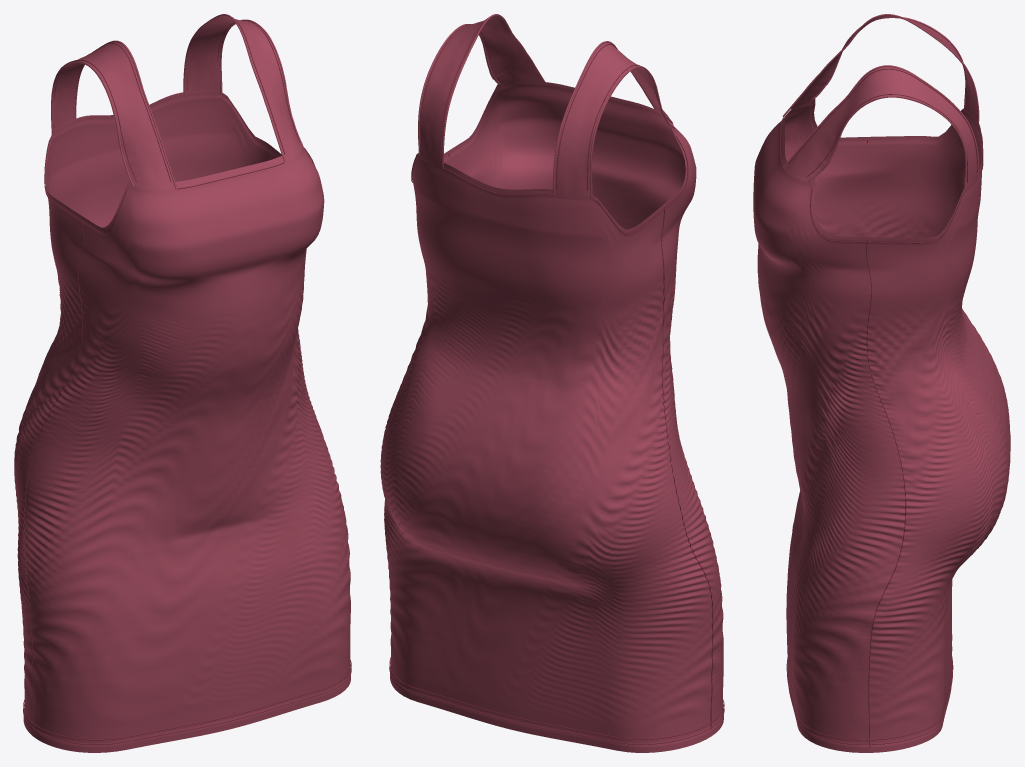
The model's file is vestido-mini-plisado_XL.glb.
The picture shows the model from 3 angles, left to right: view 1: azimuth 30°, elevation 25°; view 2: azimuth 150°, elevation 25°; view 3: azimuth 270°, elevation 25°; orthographic projection. The views are drawn at different scales.
Parts seen in each view (by area): view 1: vestido, tirante (×2), pespunte (×2), tirante-borde; view 2: vestido, tirante (×2), pespunte (×3), tirante-borde; view 3: vestido, tirante (×2), tirante-borde (×3), pespunte.
Part boxes in pixels (x1=…): vestido: x1=14, y1=89, x2=350, y2=752; tirante (×2): x1=51, y1=14, x2=301, y2=191; pespunte (×2): x1=23, y1=219, x2=351, y2=740; tirante-borde: x1=183, y1=14, x2=285, y2=161; vestido: x1=380, y1=81, x2=723, y2=752; tirante (×2): x1=419, y1=14, x2=673, y2=196; pespunte (×3): x1=389, y1=207, x2=724, y2=744; tirante-borde: x1=442, y1=14, x2=545, y2=168; vestido: x1=753, y1=98, x2=1010, y2=752; tirante (×2): x1=783, y1=14, x2=978, y2=190; tirante-borde (×3): x1=782, y1=14, x2=979, y2=190; pespunte: x1=866, y1=240, x2=906, y2=747.
Bounding box in the file's own units: 0.4148 × 0.84 × 0.3056.
